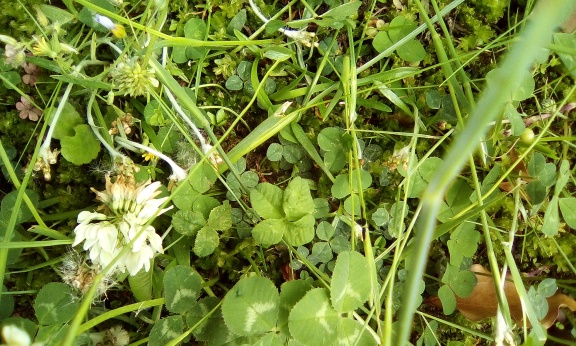4leaf: (250, 176, 317, 248)
